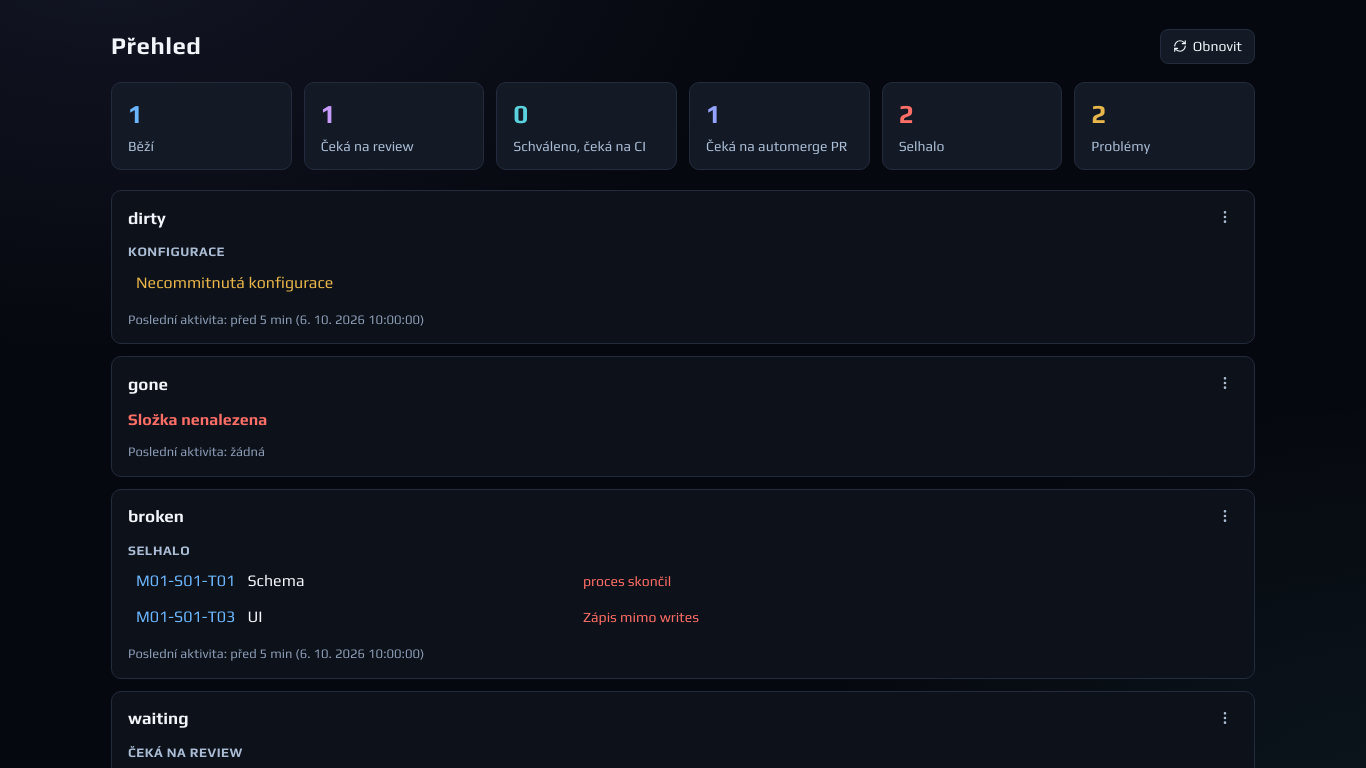
Test: OverviewView › shows the totals and filters the cards by a click on one
Expected: the button with test id "total-failed" shows "Selhalo", [882,82,1062,170]
Expected: the button with test id "total-automerge" shows "Čeká na automerge PR", [689,82,870,170]
Click the button with test id "total-review". click: (394, 126)
box: [304,82,484,170]
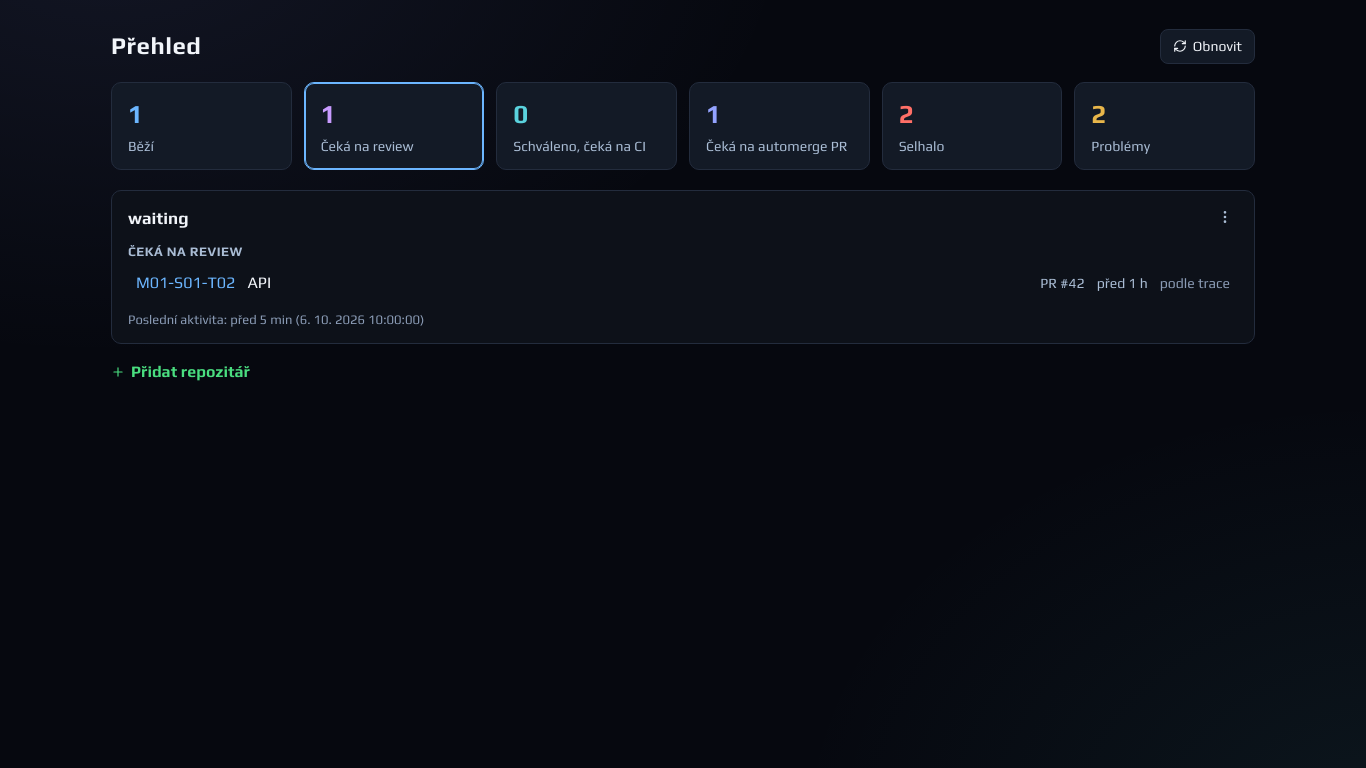
Click the button with test id "total-automerge". click: (779, 126)
box: [689,82,870,170]
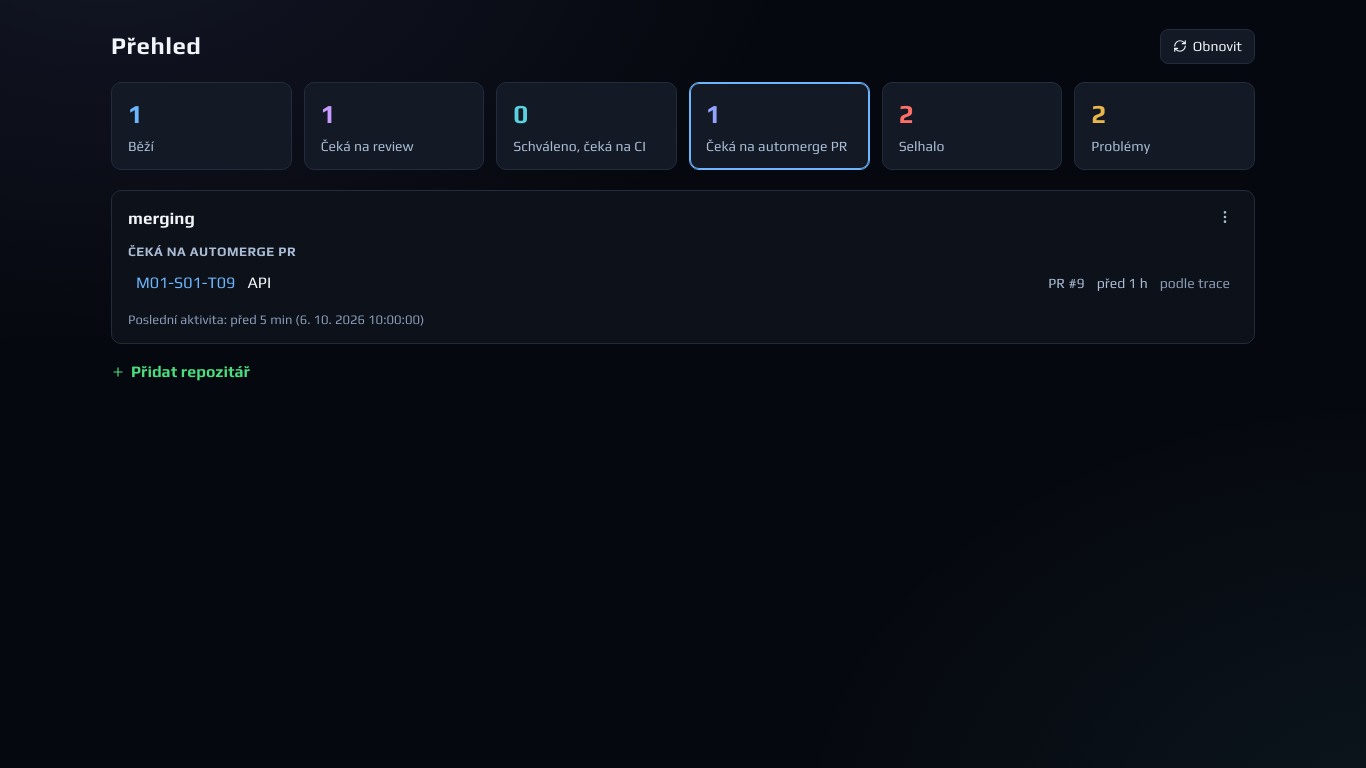
Click the button with test id "total-failed". click: (972, 126)
box: [882,82,1062,170]
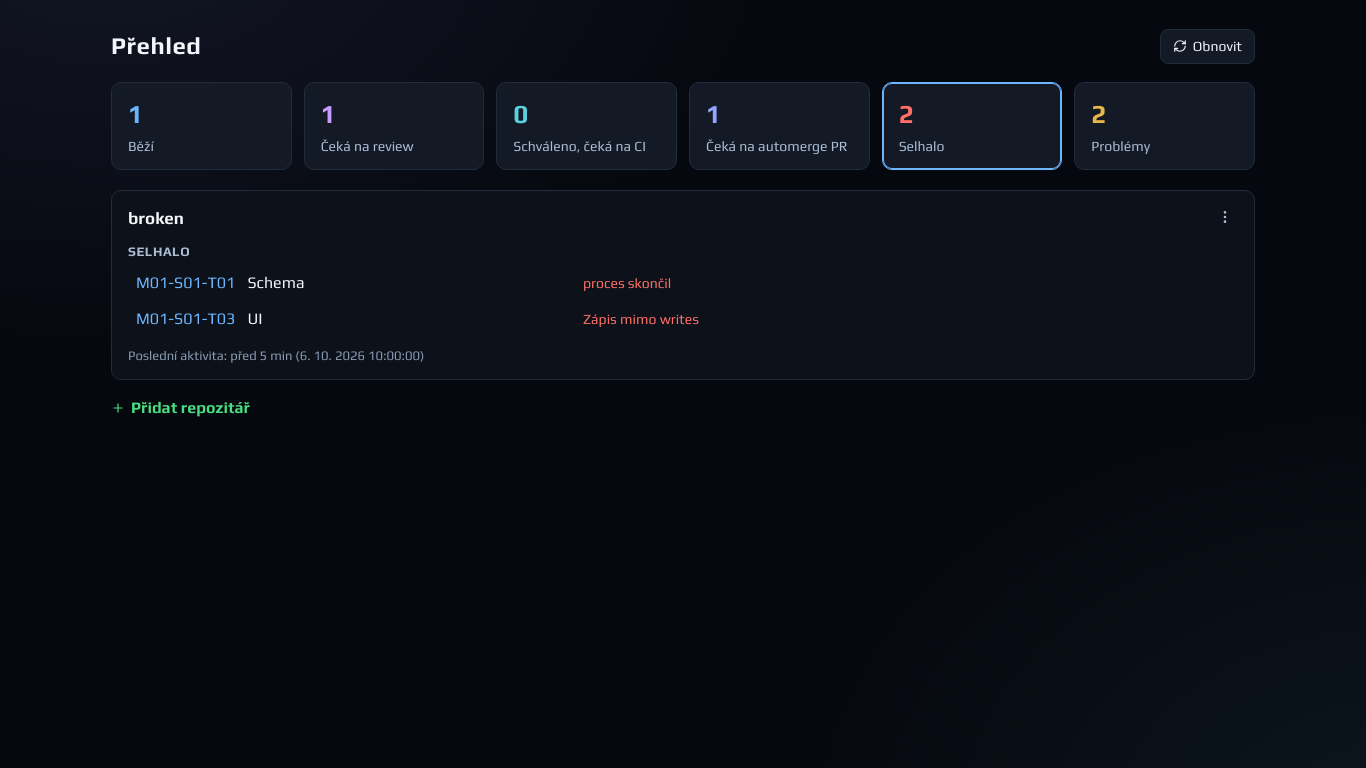
Result: the button with test id "total-failed" is pressed at [882,82,1062,170]
Click the button with test id "total-problems". click: (1165, 126)
box: [1074,82,1255,170]
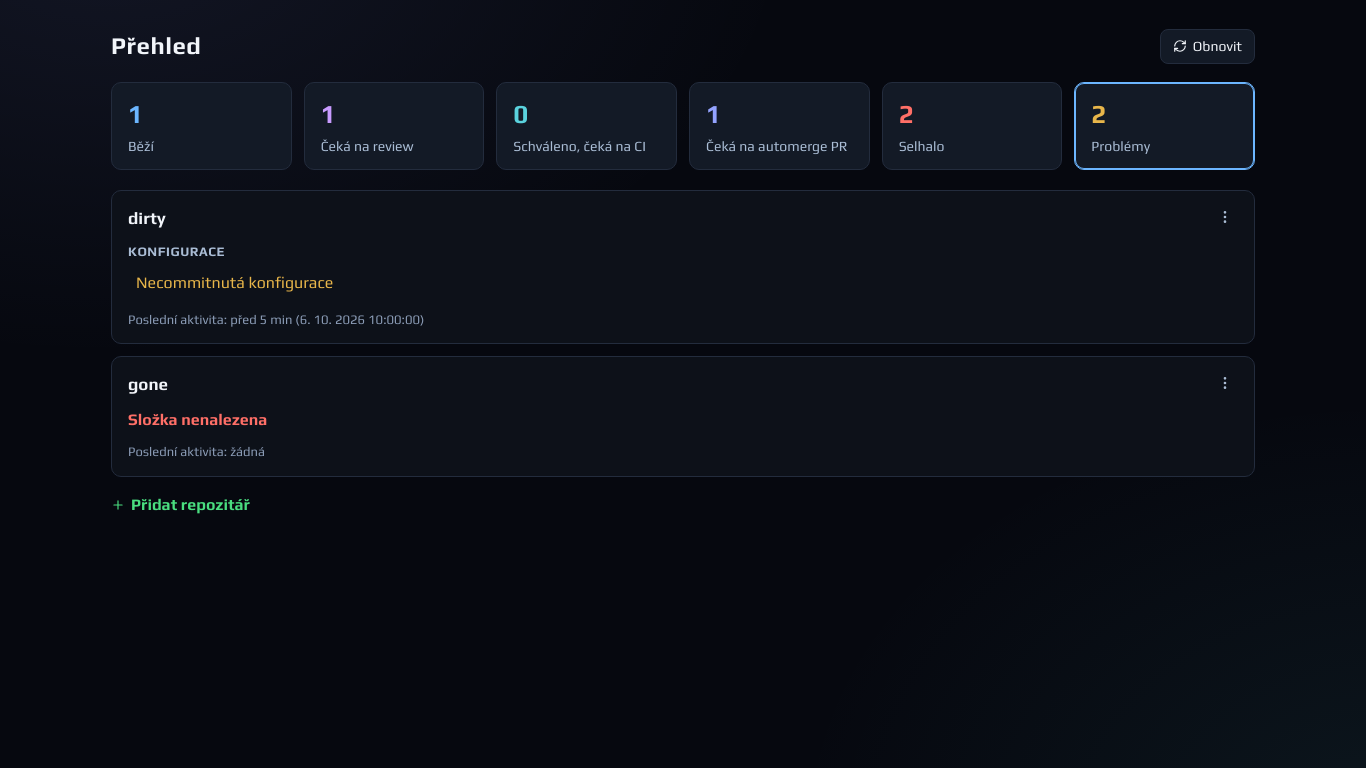
Click the button with test id "total-problems". click: (1165, 126)
box: [1074,82,1255,170]
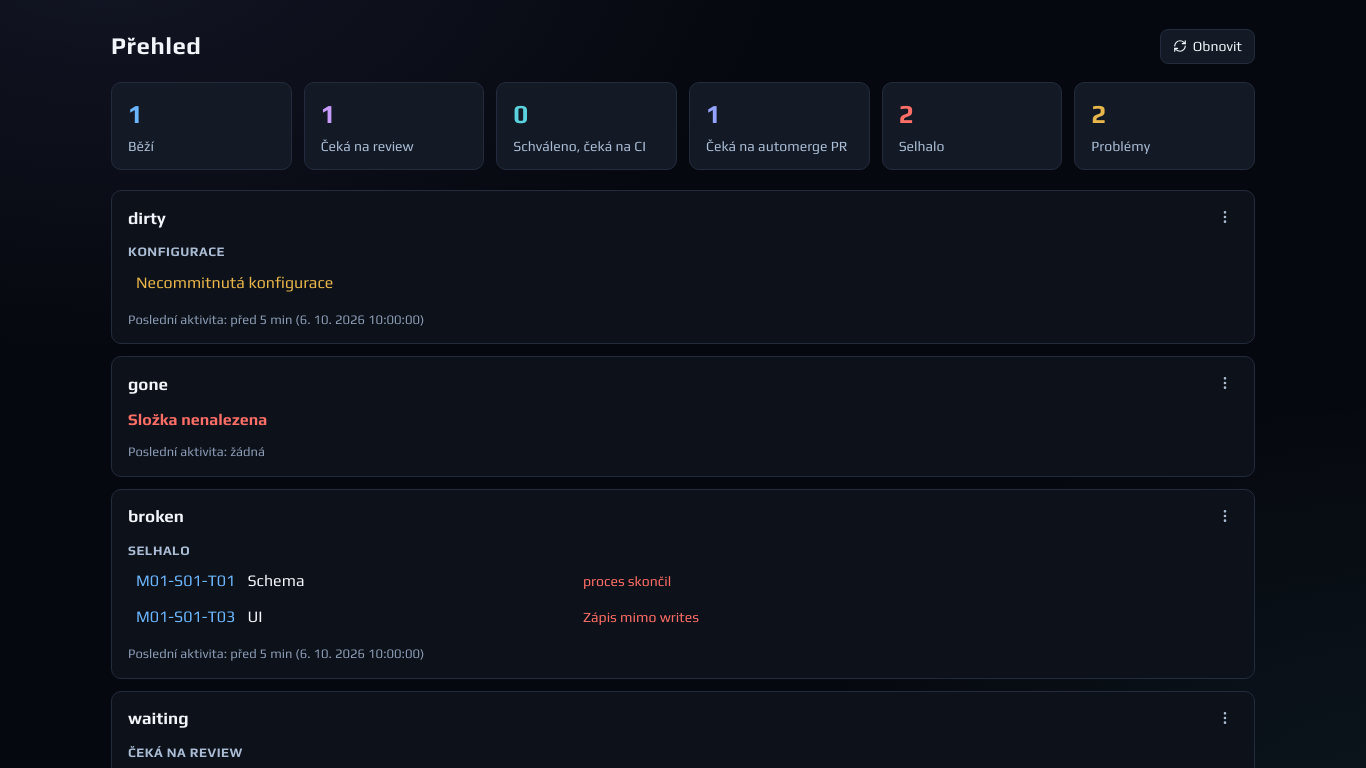
Result: the number of elements with test id "overview-card" is 6
